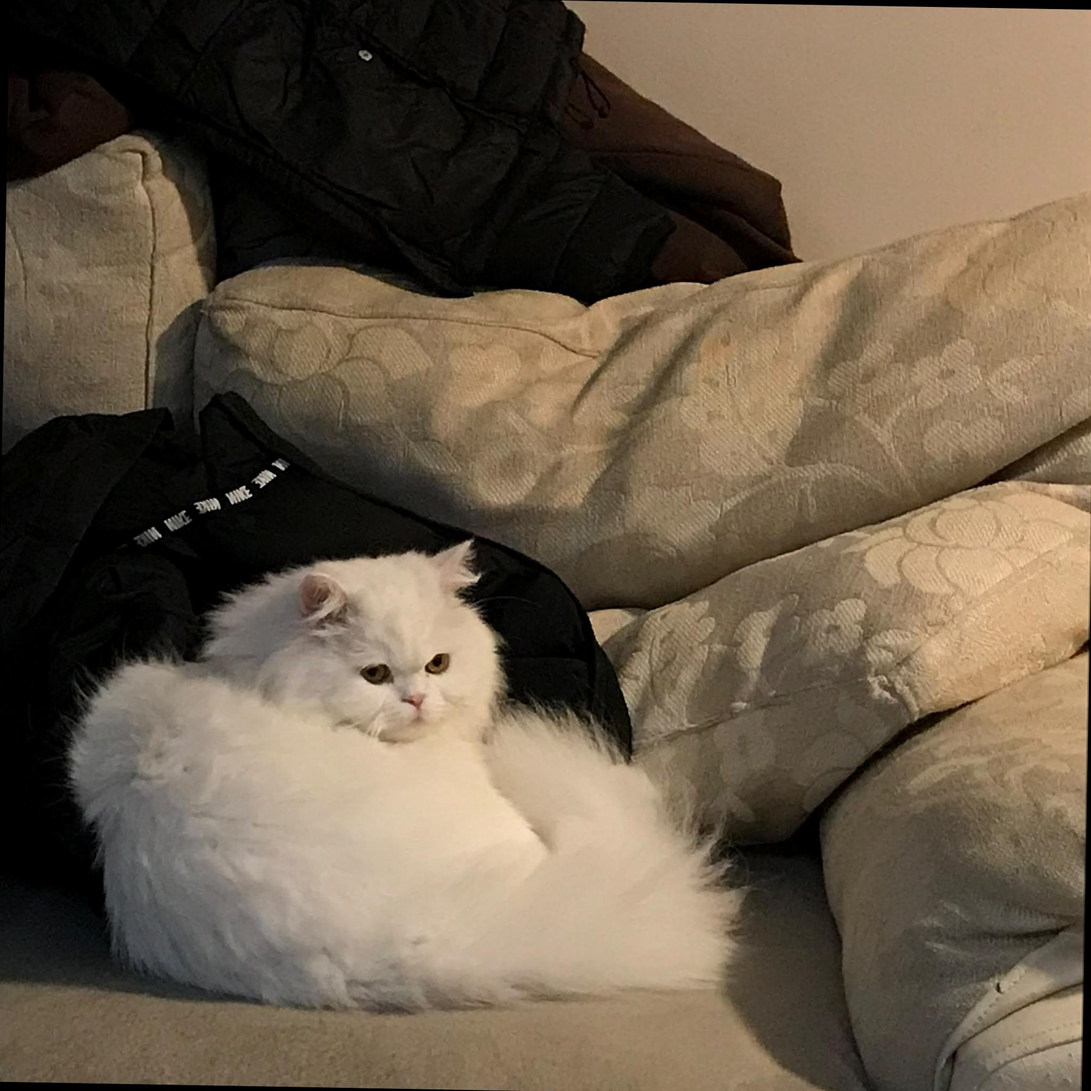macka: (60, 528, 745, 1019)
